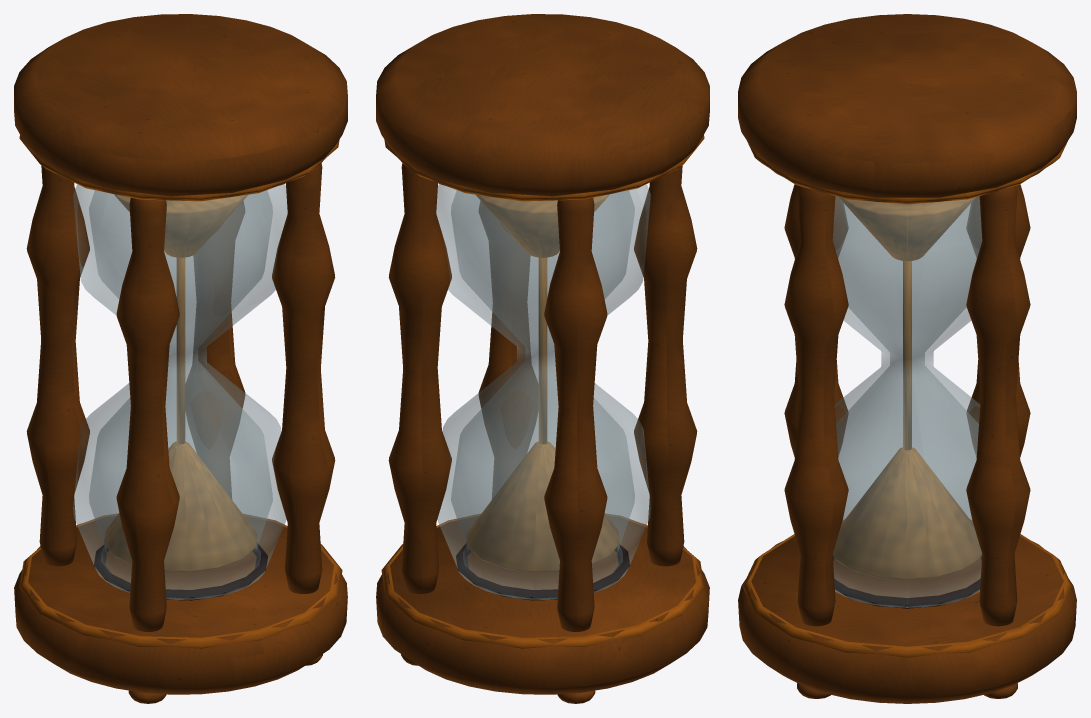
Rendered from antique_hourglass_LOD1.glb.
3 renders of one model, left to right at view 1: azimuth 30°, elevation 25°; view 2: azimuth 150°, elevation 25°; view 3: azimuth 270°, elevation 25°, orthographic.
Parts seen in each view (by area): view 1: Closed thick double-wall glass vessel, Closed stepped upper brass frame, Closed stepped lower brass frame, Turned brass support 2, Turned brass support 3, Turned brass support 1, Turned brass support 0, Lower sand pile, Ornate frame rail.001, Upper sand reserve, Glass seat gasket, Falling sand stream (+1 smaller); view 2: Closed thick double-wall glass vessel, Closed stepped upper brass frame, Closed stepped lower brass frame, Turned brass support 1, Turned brass support 0, Turned brass support 2, Turned brass support 3, Lower sand pile, Ornate frame rail.001, Upper sand reserve, Glass seat gasket, Falling sand stream (+1 smaller); view 3: Closed thick double-wall glass vessel, Closed stepped upper brass frame, Closed stepped lower brass frame, Turned brass support 0, Turned brass support 3, Lower sand pile, Upper sand reserve, Ornate frame rail.001, Turned brass support 1, Turned brass support 2, Falling sand stream, Ornate frame rail.002 (+1 smaller).
Boxes of the visible parts, <box> form: Closed thick double-wall glass vessel: <box>73,184,287,599</box>; Closed stepped upper brass frame: <box>14,14,347,200</box>; Closed stepped lower brass frame: <box>14,516,347,694</box>; Turned brass support 2: <box>116,197,179,631</box>; Turned brass support 3: <box>272,163,335,593</box>; Turned brass support 1: <box>26,165,89,566</box>; Turned brass support 0: <box>185,201,245,498</box>; Lower sand pile: <box>104,442,257,572</box>; Ornate frame rail.001: <box>19,514,342,648</box>; Upper sand reserve: <box>114,194,247,257</box>; Glass seat gasket: <box>94,543,267,600</box>; Falling sand stream: <box>176,257,185,444</box>; Closed thick double-wall glass vessel: <box>436,184,650,599</box>; Closed stepped upper brass frame: <box>376,14,709,200</box>; Closed stepped lower brass frame: <box>376,516,709,694</box>; Turned brass support 1: <box>544,197,607,631</box>; Turned brass support 0: <box>388,163,451,593</box>; Turned brass support 2: <box>634,165,697,566</box>; Turned brass support 3: <box>478,201,538,498</box>; Lower sand pile: <box>466,442,619,572</box>; Ornate frame rail.001: <box>381,514,704,648</box>; Upper sand reserve: <box>476,194,609,257</box>; Glass seat gasket: <box>456,543,629,600</box>; Falling sand stream: <box>538,257,547,444</box>; Closed thick double-wall glass vessel: <box>832,196,982,607</box>; Closed stepped upper brass frame: <box>738,14,1076,202</box>; Closed stepped lower brass frame: <box>738,522,1076,703</box>; Turned brass support 0: <box>966,186,1030,626</box>; Turned brass support 3: <box>784,186,848,626</box>; Lower sand pile: <box>833,447,981,580</box>; Upper sand reserve: <box>839,197,975,261</box>; Ornate frame rail.001: <box>742,519,1072,657</box>; Turned brass support 1: <box>966,184,1030,457</box>; Turned brass support 2: <box>784,184,848,457</box>; Falling sand stream: <box>903,261,911,449</box>; Ornate frame rail.002: <box>747,141,1067,204</box>.
Bounding box in the file's own units: 0.232 × 0.4388 × 0.232.
5 materials, 5 textured.
